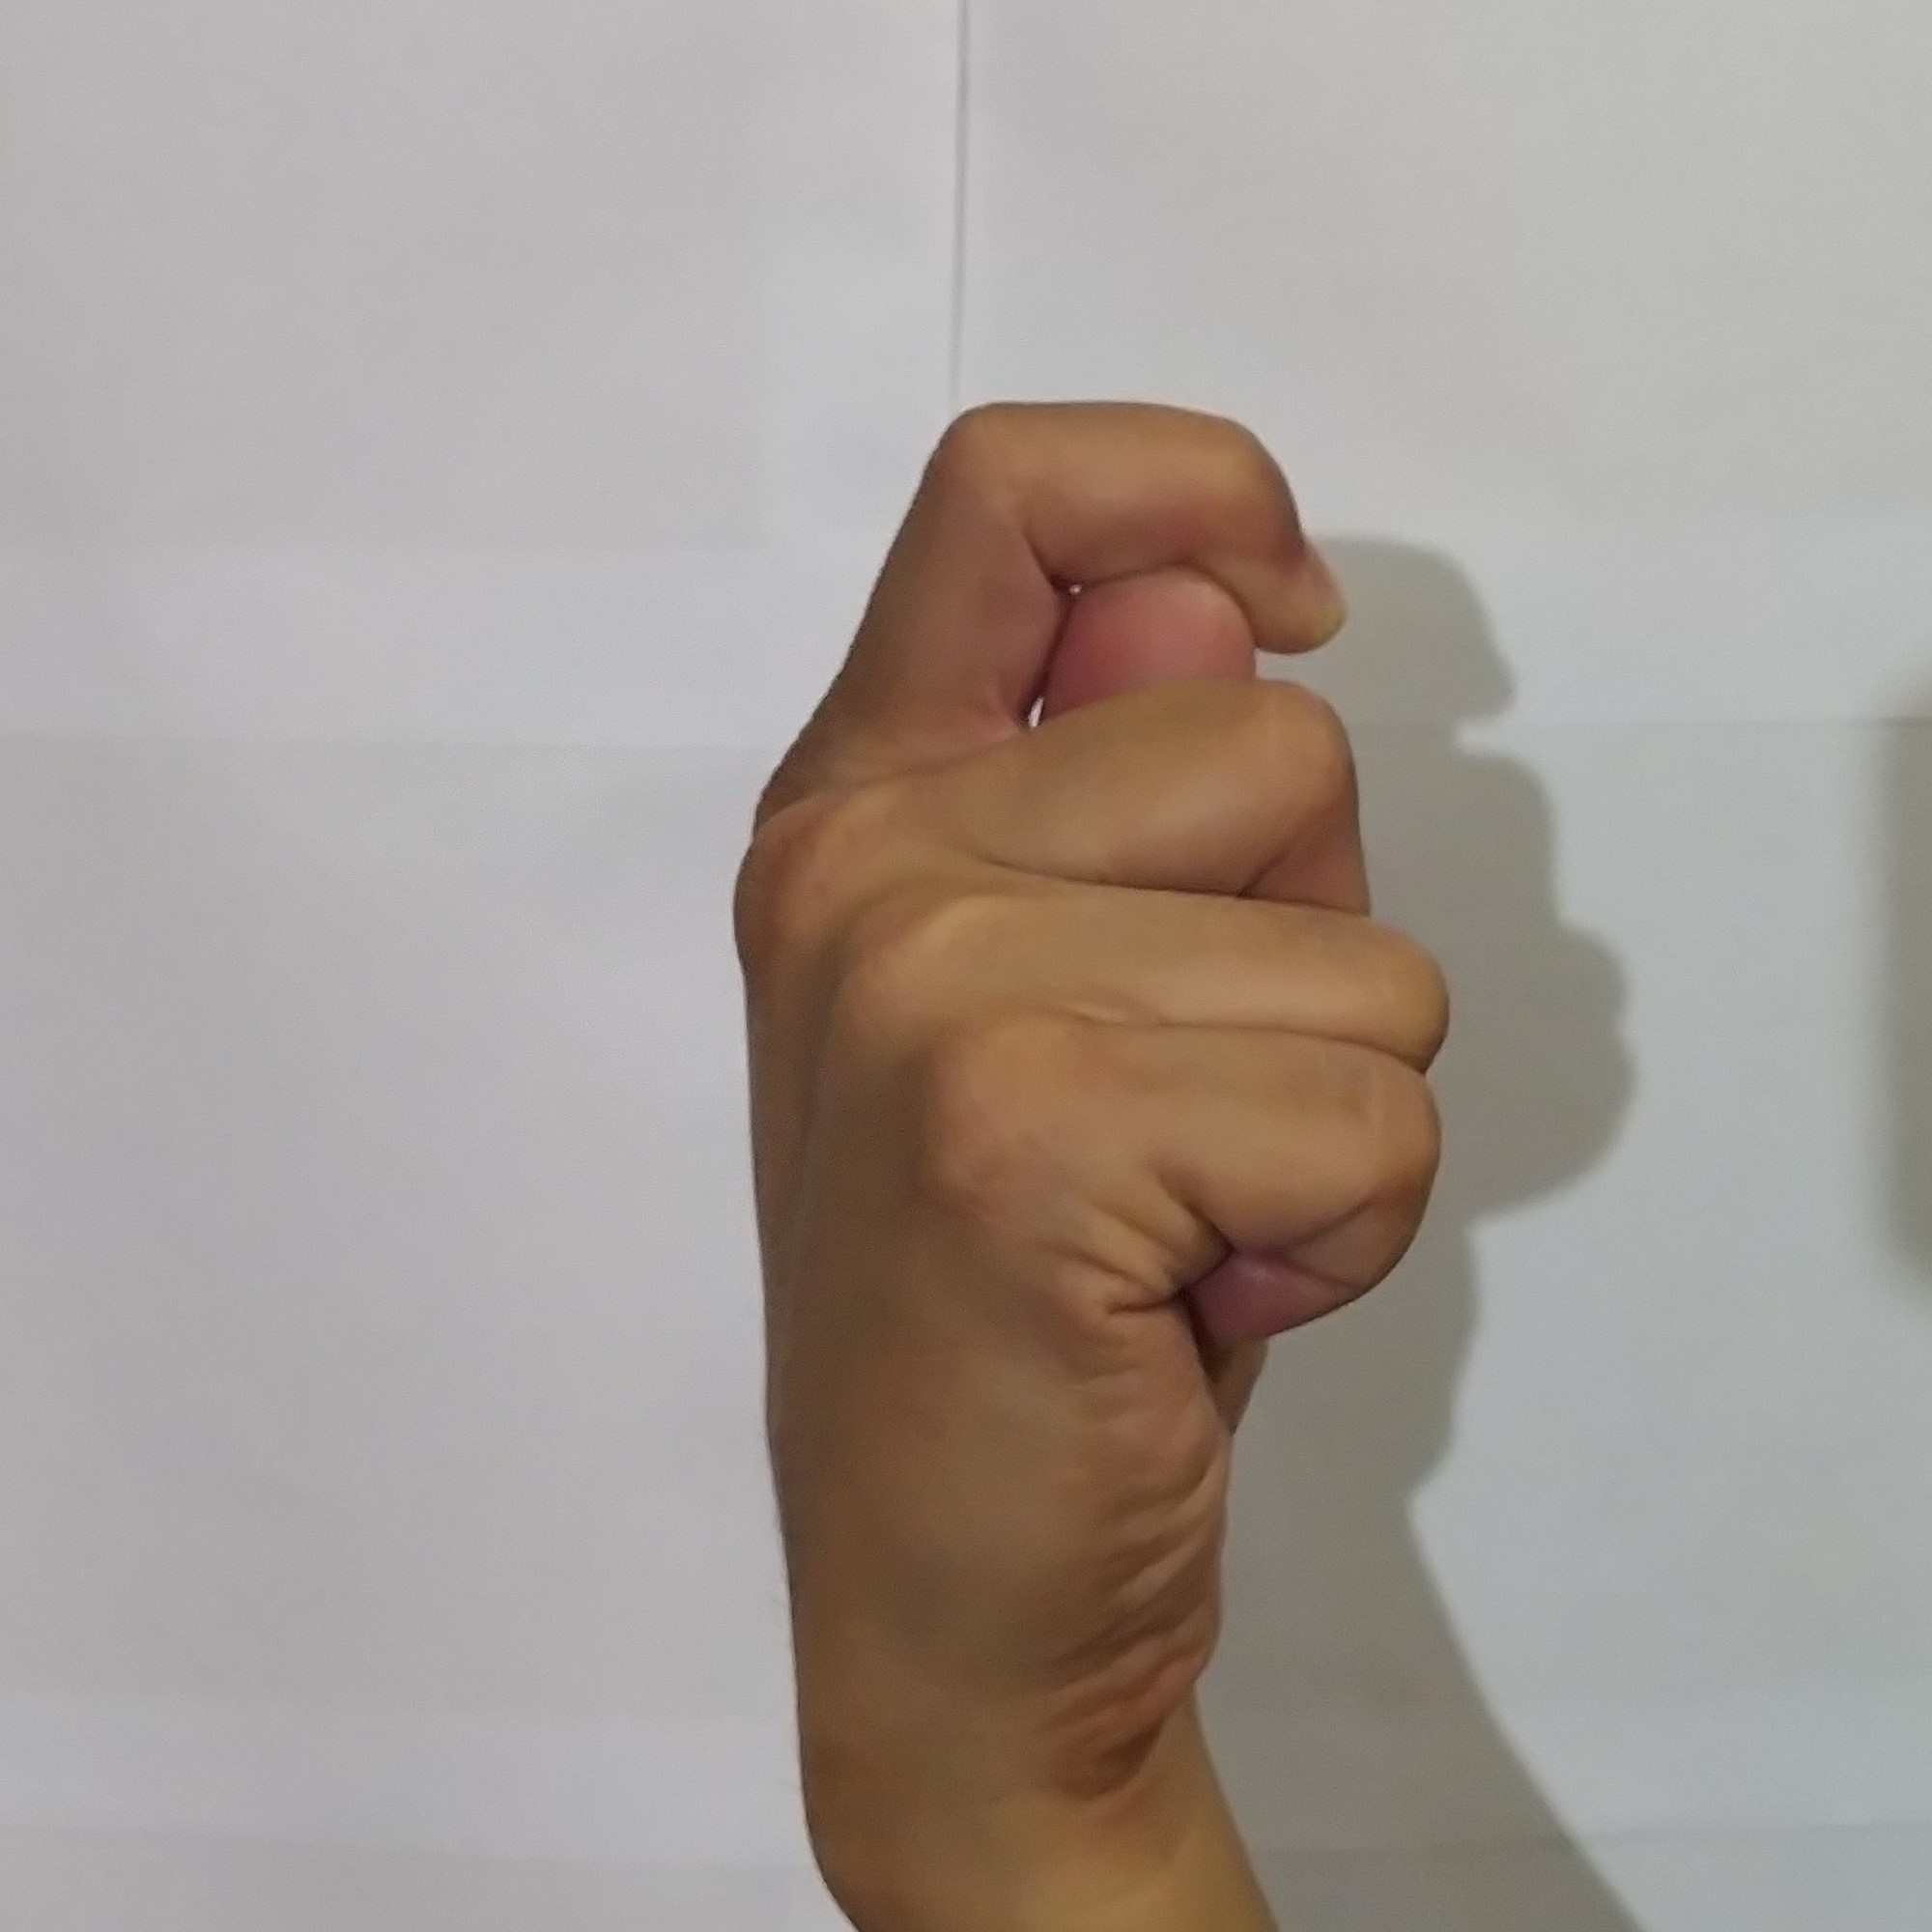T: (688, 363, 1488, 1798)
